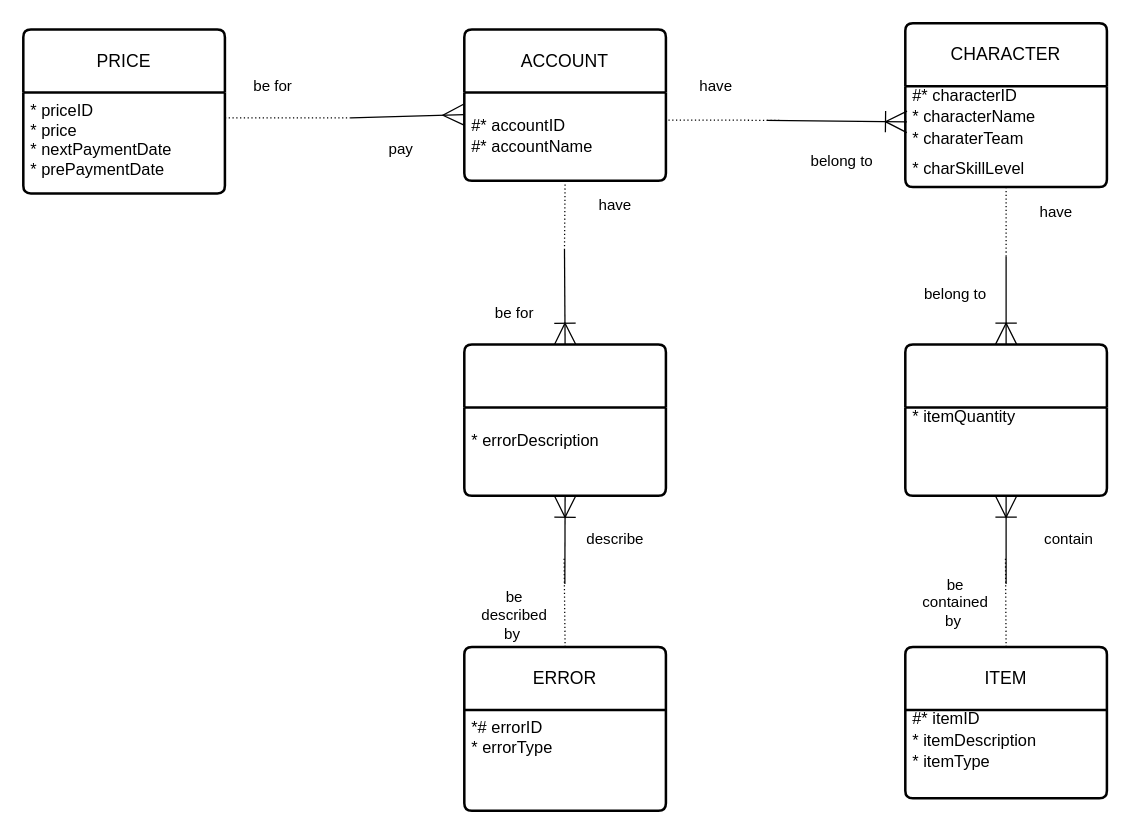
Some shapes in this 1129 by 833 pixel diagram are drawn without their labels. The box of each missing label's shape, as (x1, y1, x2, y2) in pixels:
ERRORDETAIL: (462, 343, 667, 496)
INVENTORYSLOT: (903, 343, 1108, 496)
